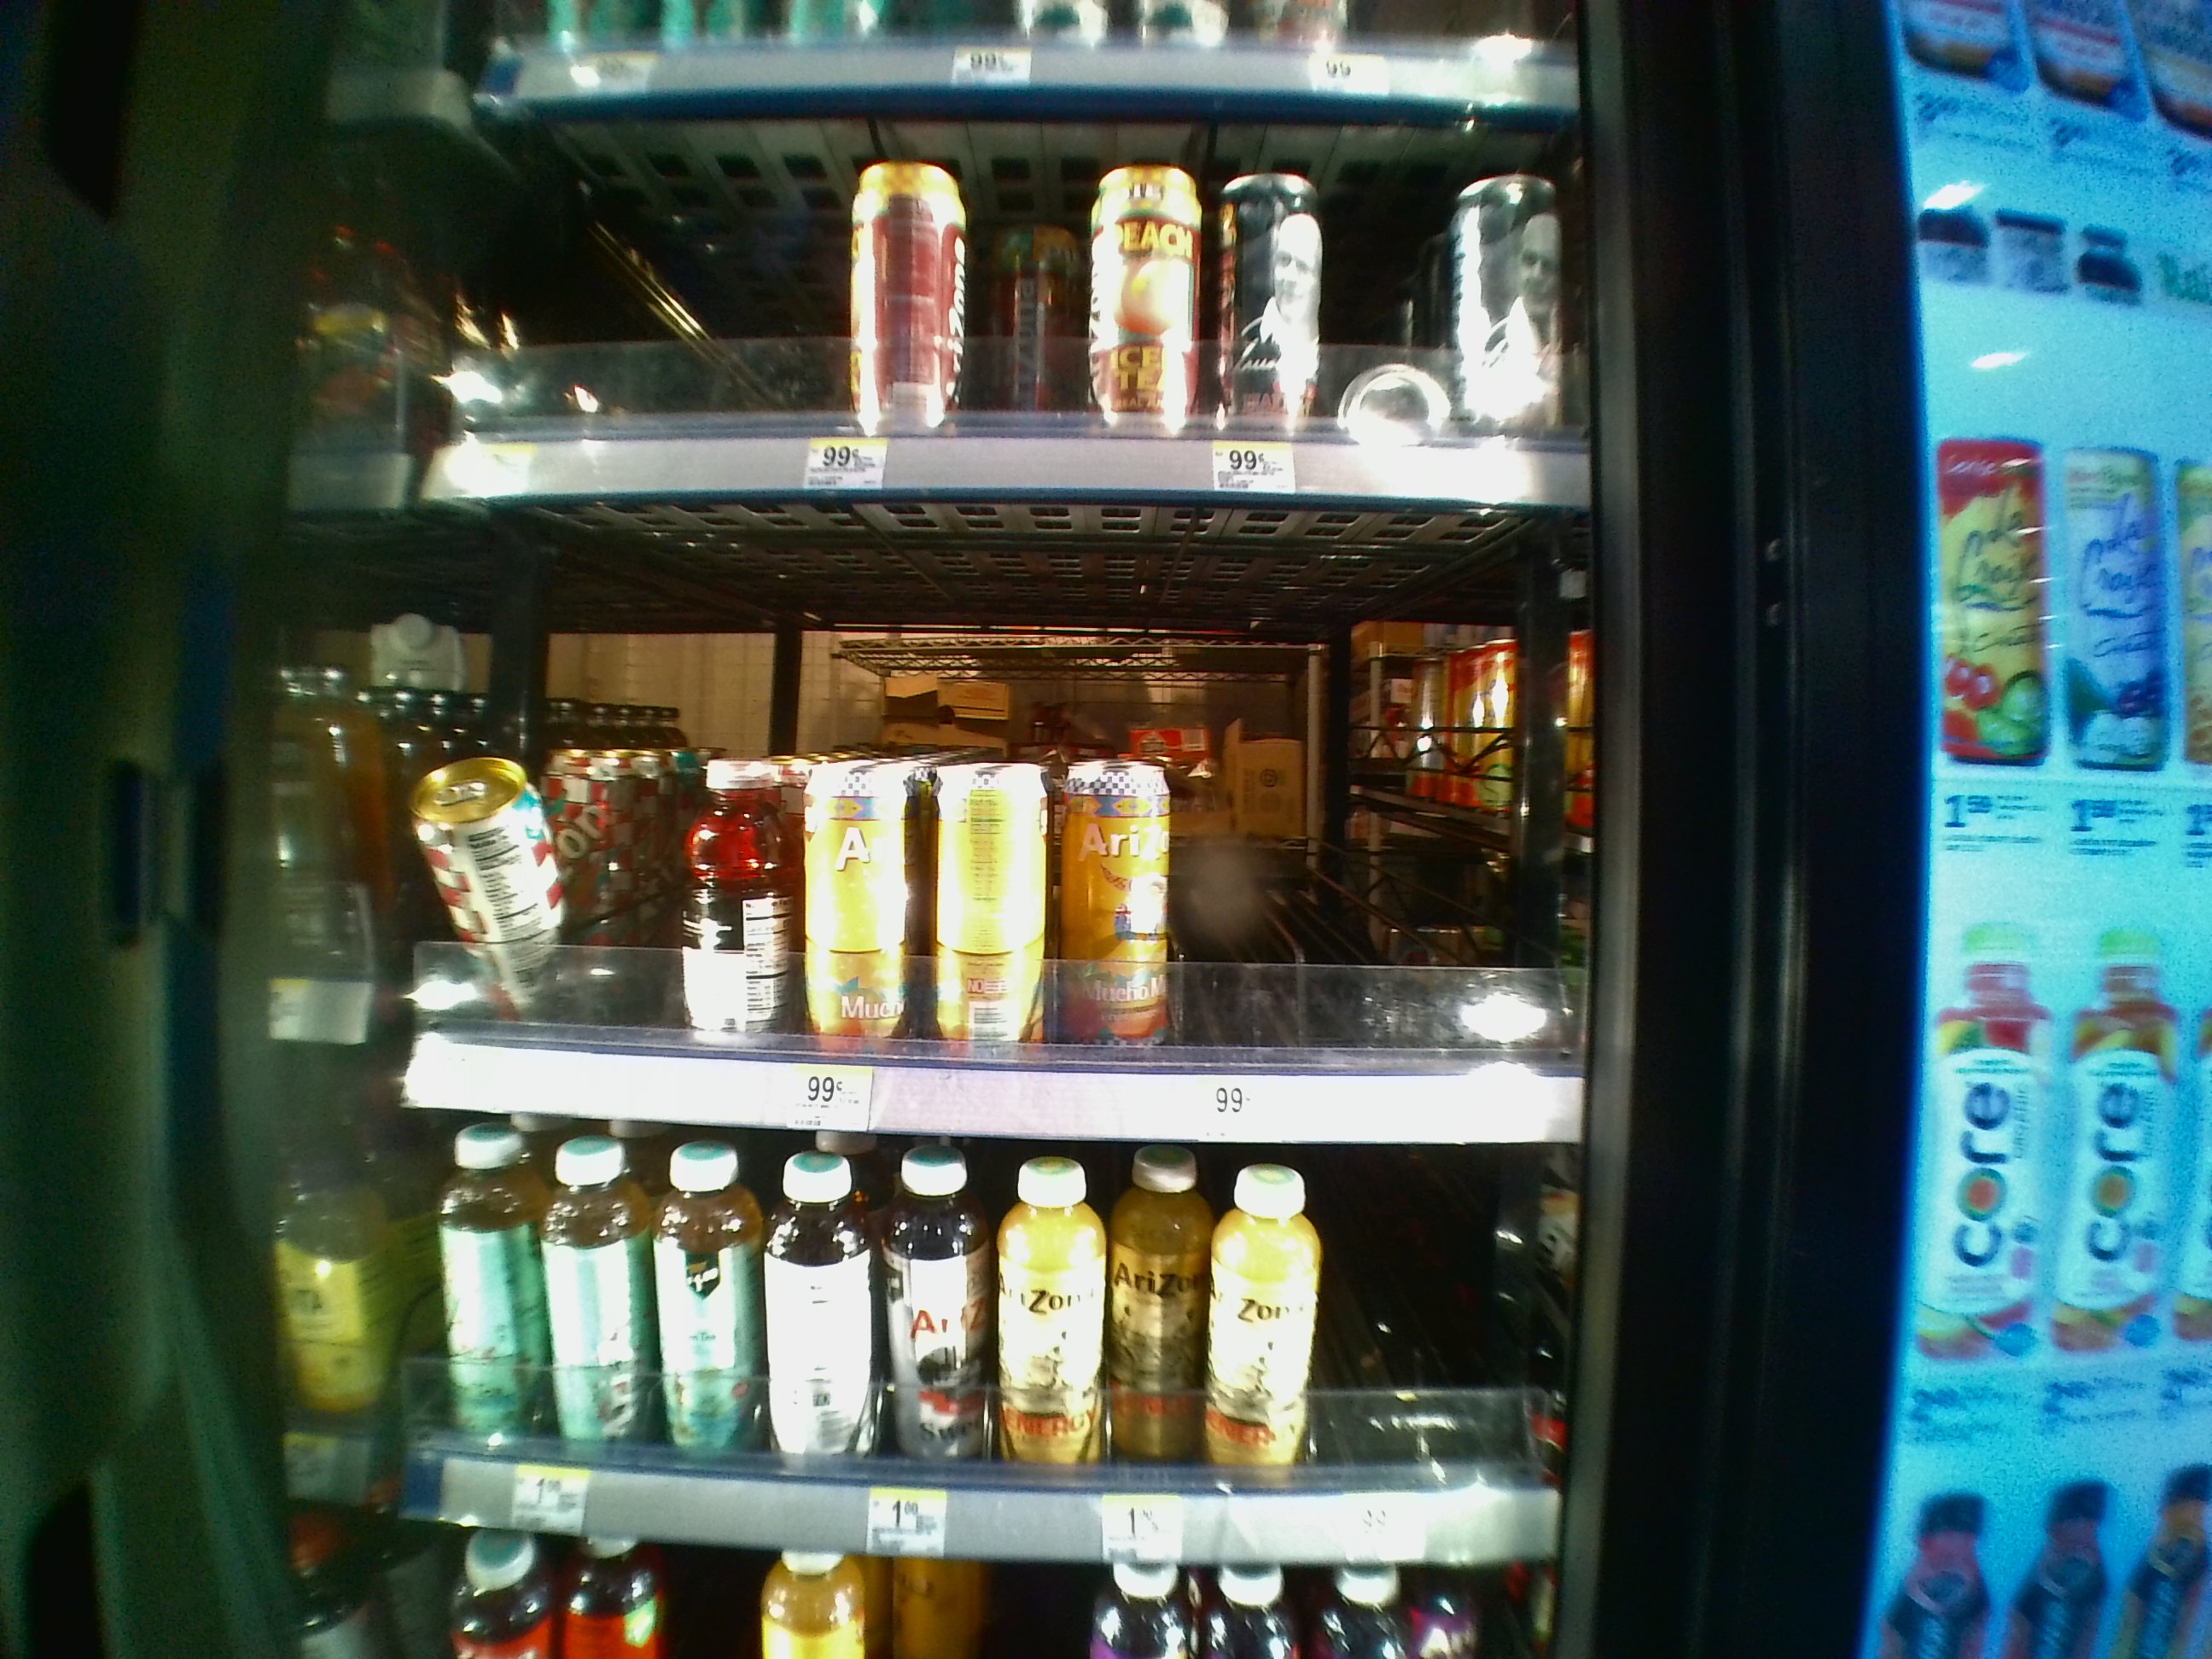shelf: (404, 516, 1583, 1140), (428, 101, 1583, 505)
